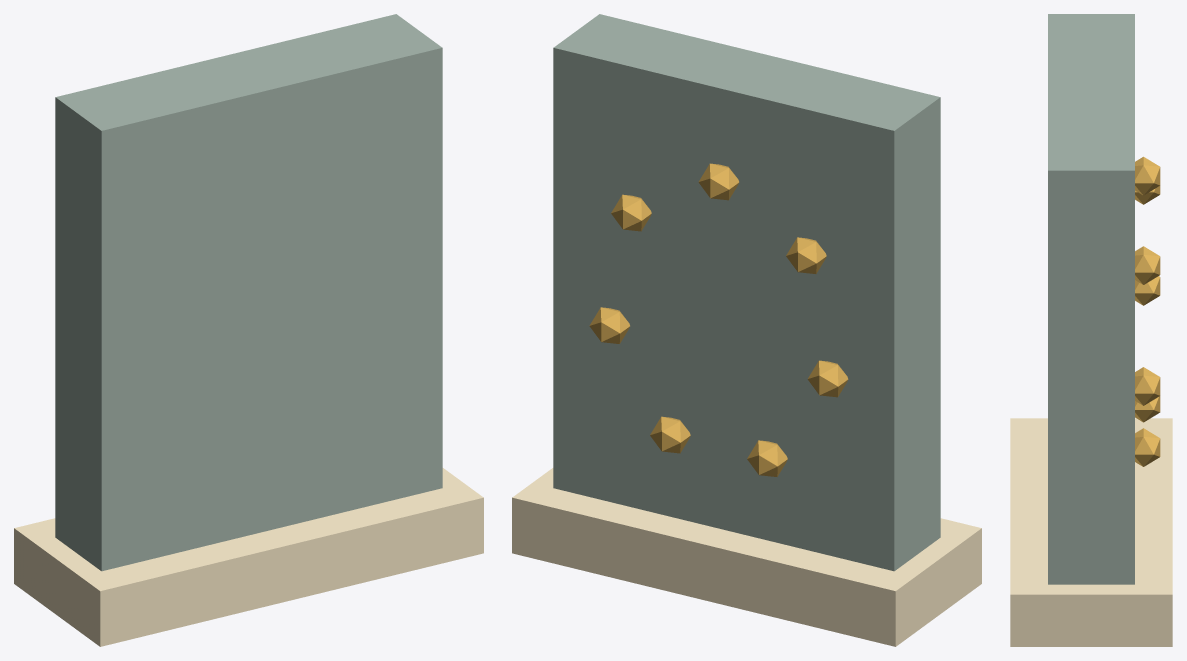
Rendered from discovery-star-tablet.glb.
3 views of the same model, side by side, from view 1: azimuth 30°, elevation 25°; view 2: azimuth 150°, elevation 25°; view 3: azimuth 270°, elevation 25° (orthographic). The views are drawn at different scales.
Visible parts, largest first — view 1: star-tablet, tablet-plinth; view 2: star-tablet, tablet-plinth, seven-star-inlay (×7); view 3: star-tablet, tablet-plinth, seven-star-inlay (×7).
Boxes of the visible parts, box(x1,y1,x2,y2) form: star-tablet: box(55, 14, 442, 571); tablet-plinth: box(14, 468, 483, 646); star-tablet: box(553, 14, 940, 571); tablet-plinth: box(512, 468, 981, 646); seven-star-inlay (×7): box(589, 163, 848, 476); star-tablet: box(1048, 14, 1134, 584); tablet-plinth: box(1010, 418, 1172, 646); seven-star-inlay (×7): box(1135, 156, 1160, 466).
Bounding box in the file's own units: 3.6 × 4.5 × 1.4.
